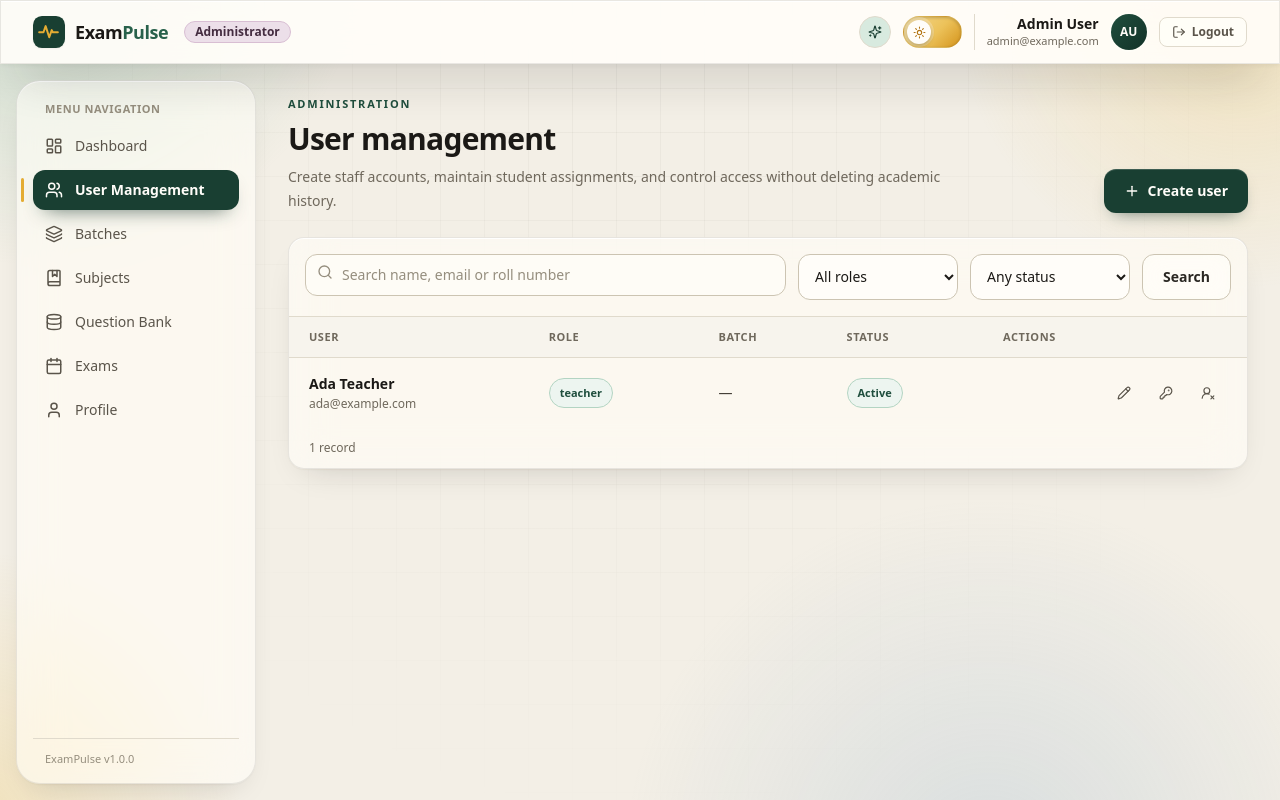
it: renders the user directory and opens the create form
Click the button "Create user".
click(1176, 190)  # box [1104, 168, 1248, 212]
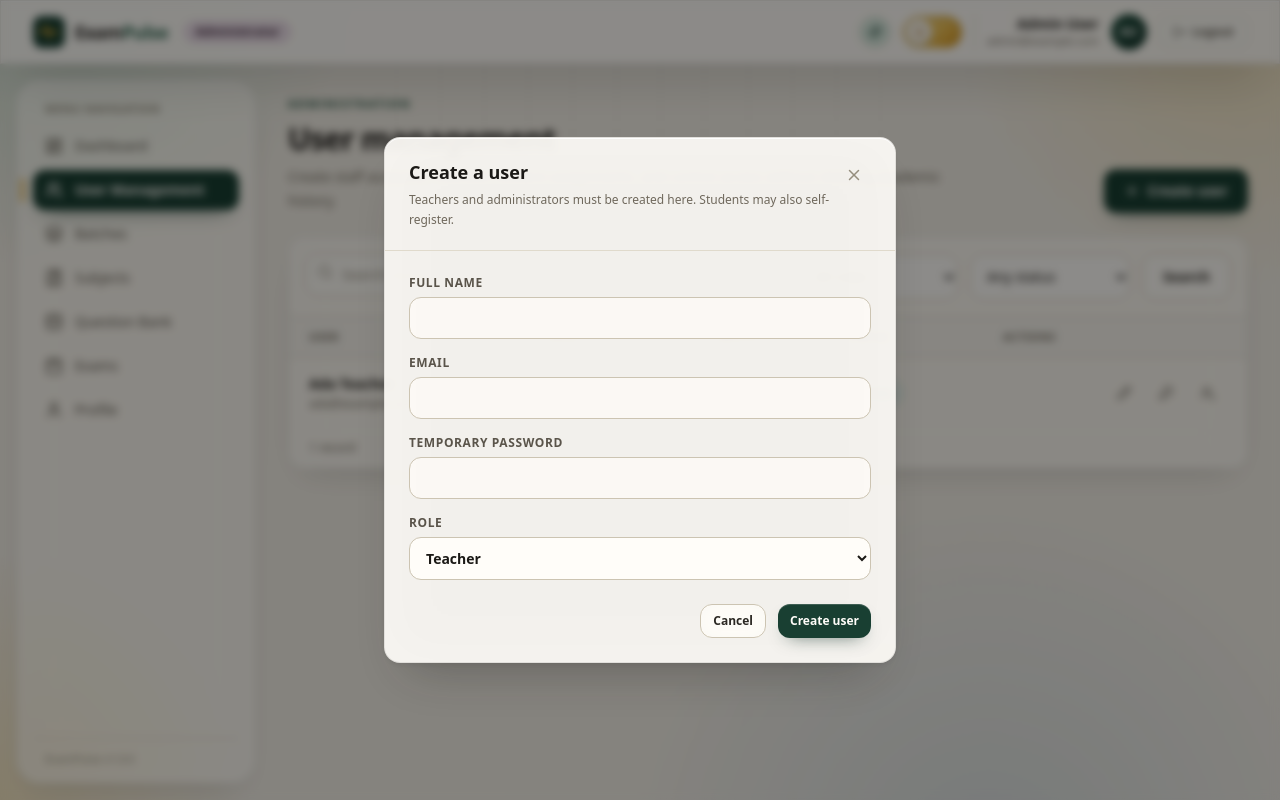
Now the dialog "Create a user" is shown, box [384, 137, 896, 663]
Now the field labelled "Full name" is shown, box [409, 297, 871, 339]
